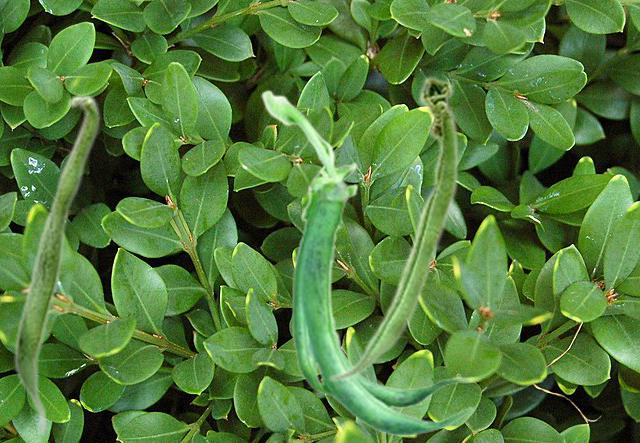french_bean: (260, 89, 473, 436), (327, 74, 458, 382), (13, 93, 100, 436)
